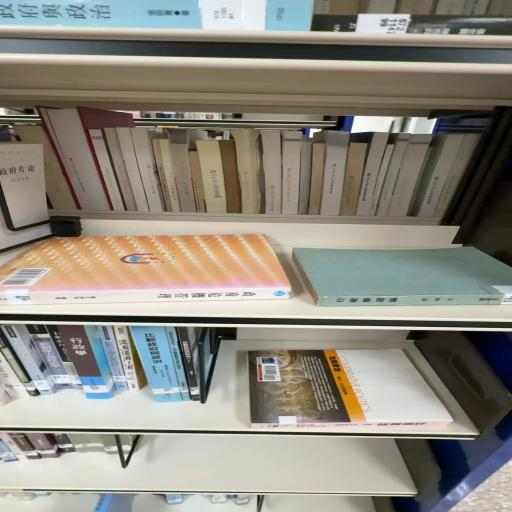flat: (1, 235, 292, 307), (248, 348, 453, 430), (293, 248, 512, 307)
